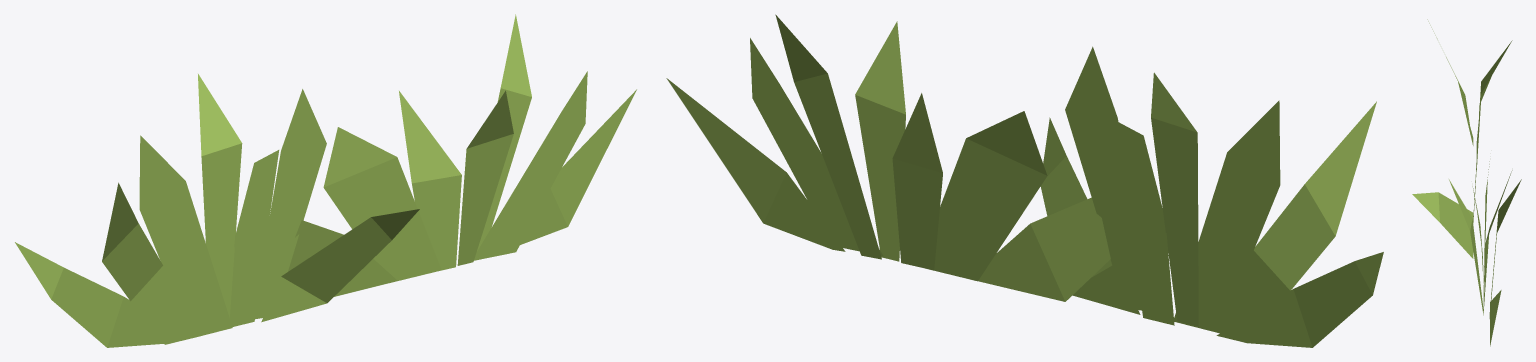
The model's file is grass03.fbx.
3 renders of one model, left to right at view 1: azimuth 30°, elevation 25°; view 2: azimuth 150°, elevation 25°; view 3: azimuth 270°, elevation 25°, orthographic. The views are drawn at different scales.
Parts seen in each view (by area): view 1: grass_03; view 2: grass_03; view 3: grass_03.
Boxes of the visible parts, <box> form: grass_03: <box>15,14,636,347</box>; grass_03: <box>666,14,1383,347</box>; grass_03: <box>1412,19,1521,346</box>.
Size of the model in its own units: 2.01 by 0.4012 by 0.7394.
